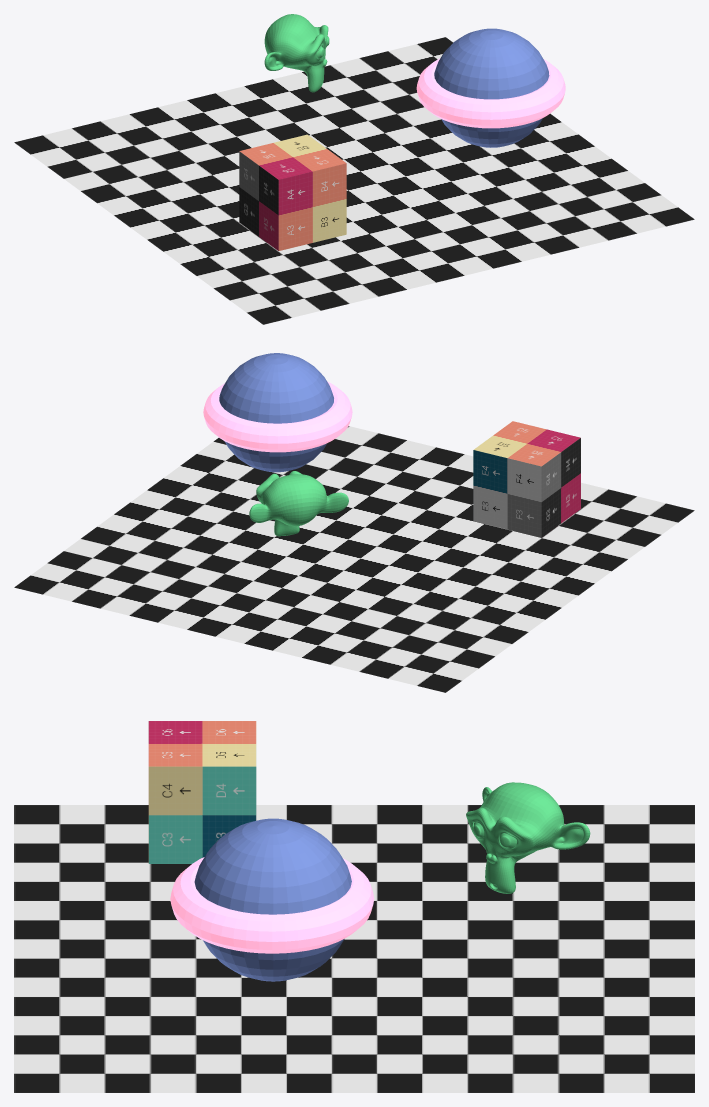
Rendered from testScene.gltf.
3 views of the same model, one above another, from view 1: azimuth 30°, elevation 25°; view 2: azimuth 150°, elevation 25°; view 3: azimuth 270°, elevation 25° (orthographic). The views are drawn at different scales.
Parts seen in each view (by area): view 1: Plane, Cube, Sphere, Torus, Suzanne; view 2: Plane, Cube, Sphere, Torus, Suzanne; view 3: Plane, Sphere, Cube, Torus, Suzanne.
Boxes of the visible parts, x1,y1,x2,y2 form: Plane: (14, 37, 694, 324); Cube: (239, 134, 346, 250); Sphere: (434, 28, 549, 147); Torus: (416, 58, 565, 128); Suzanne: (264, 14, 329, 92); Plane: (14, 426, 694, 692); Cube: (473, 421, 580, 537); Sphere: (219, 353, 333, 472); Torus: (203, 381, 352, 452); Suzanne: (249, 471, 348, 536); Plane: (14, 805, 694, 1092); Sphere: (194, 818, 351, 981); Cube: (148, 721, 256, 863); Torus: (170, 857, 374, 953); Suzanne: (466, 782, 590, 893).
Bounding box in the file's own units: 12.67 × 3.99 × 12.67.
Materials: 5 (2 with a texture image).
